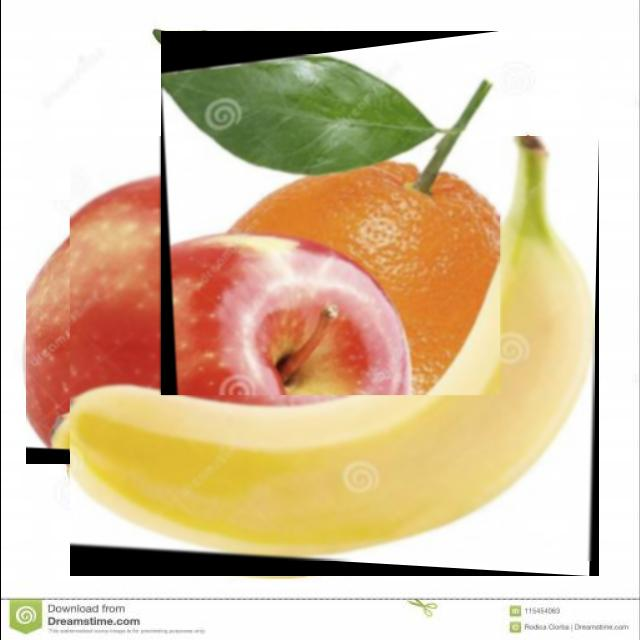2: (160, 54, 499, 395)
Apple: (25, 201, 386, 452)
Banana: (69, 137, 594, 561)
